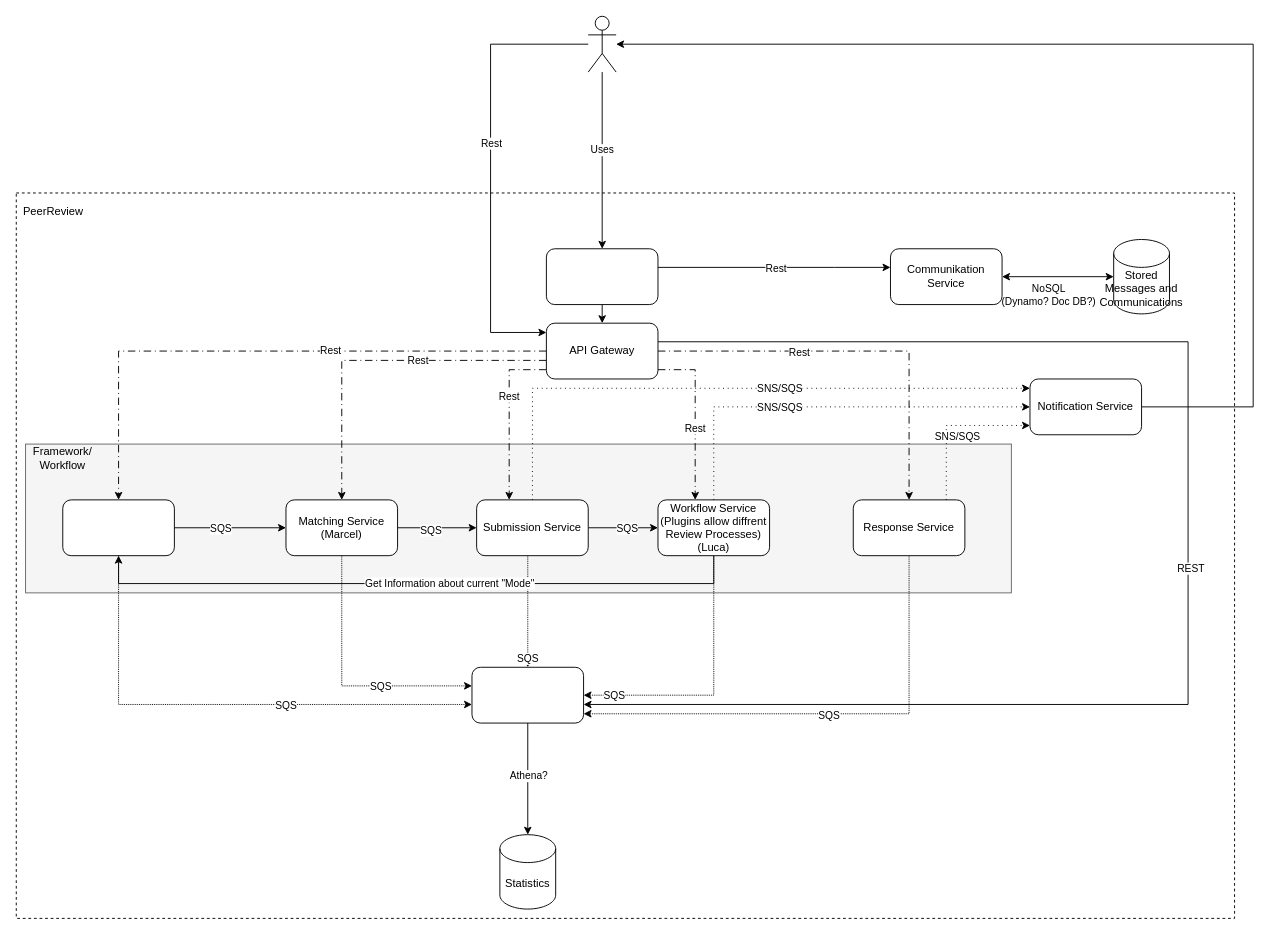
The diagram is 1277 pixels wide and 935 high, and some of its shapes have lost their labels. The shapes that lost their labels are listed below. From the top down, each one's box as (x1, y1, x2, y2) in pixels, then its label:
(587, 15, 616, 72): User
(545, 248, 658, 305): Web UI (Luca)
(62, 499, 174, 556): Configuration Service (Matthias)
(471, 666, 584, 723): Analytics & Reporting Service
